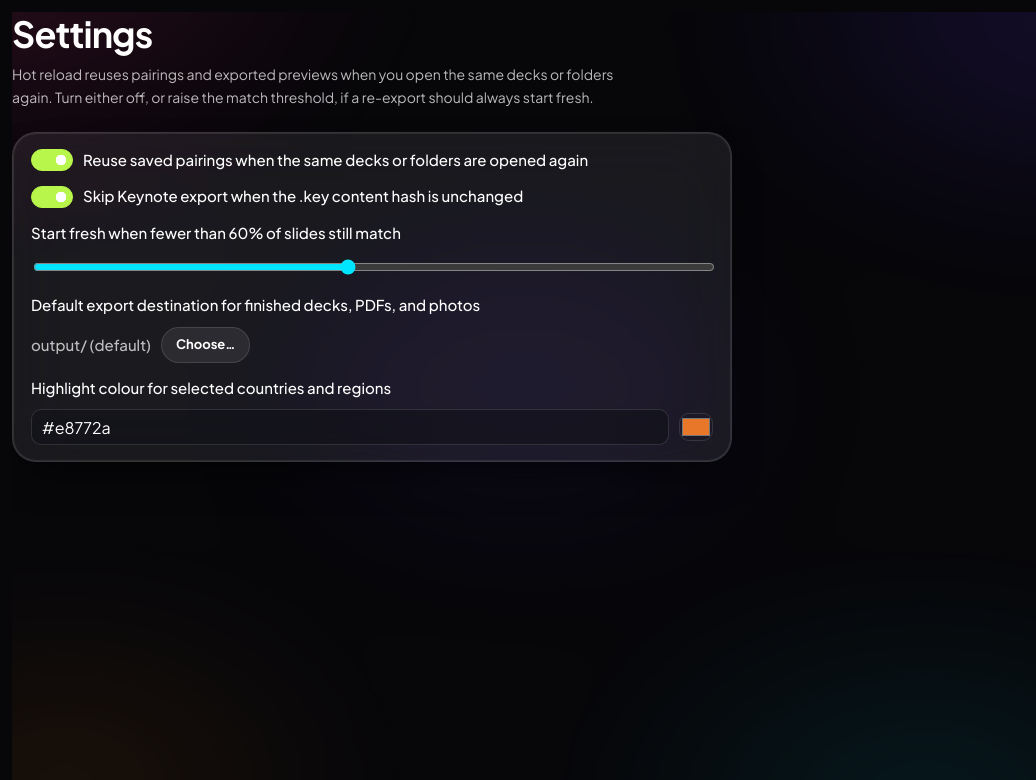
Test: SettingsTab highlight colour › normalises an invalid hex text entry to the default colour, not the previous value
The image size is (1036, 780).
Replace the text in the field named "Highlight colour hex" with "#0a84ff" at (350, 428), box [31, 410, 669, 446]
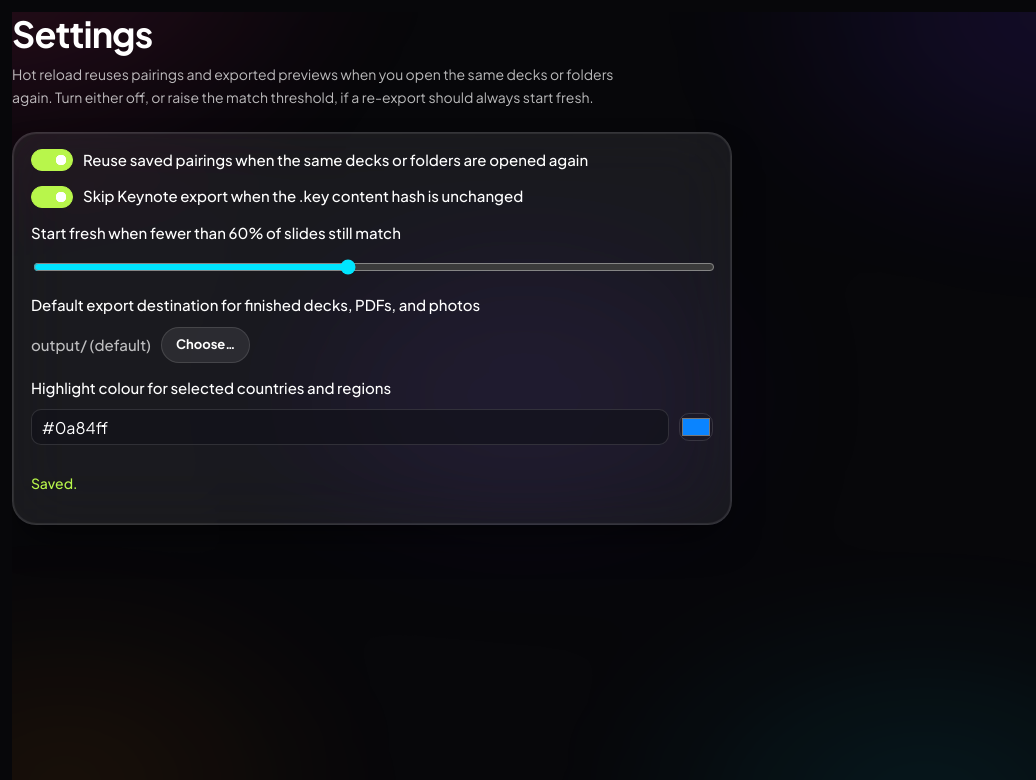
Replace the text in the field named "Highlight colour hex" with "not-a-colour" at (350, 428), box [31, 410, 669, 446]
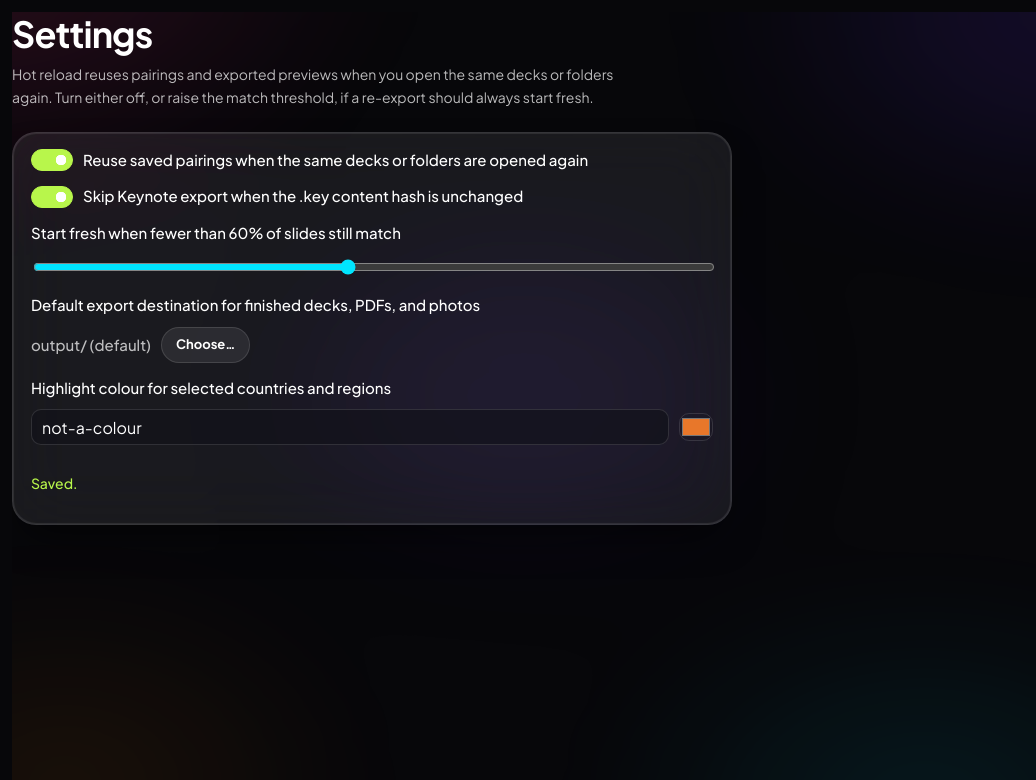
Leave the field named "Highlight colour hex", box [31, 410, 669, 446]
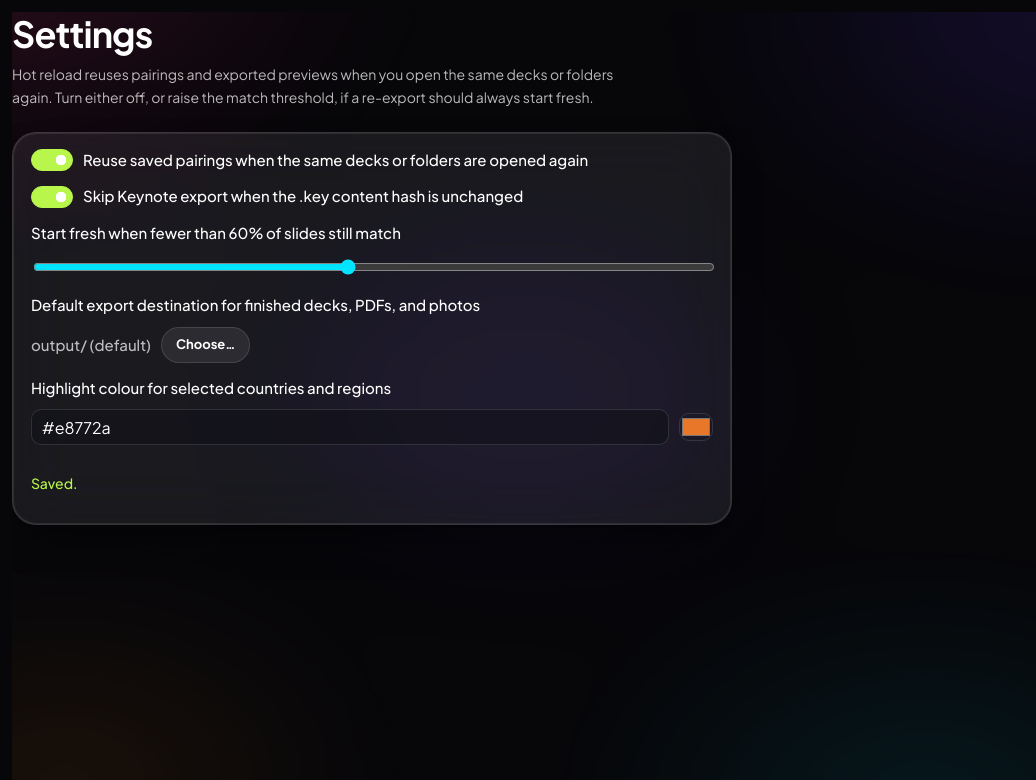
Check: the field named "Highlight colour hex" holds "#e8772a", box [31, 410, 669, 446]
